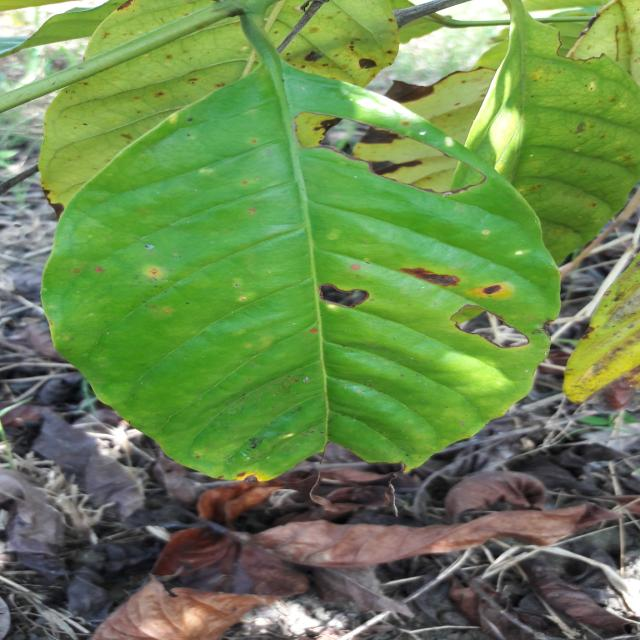Enfermedad-Roya: (41, 10, 561, 483)
